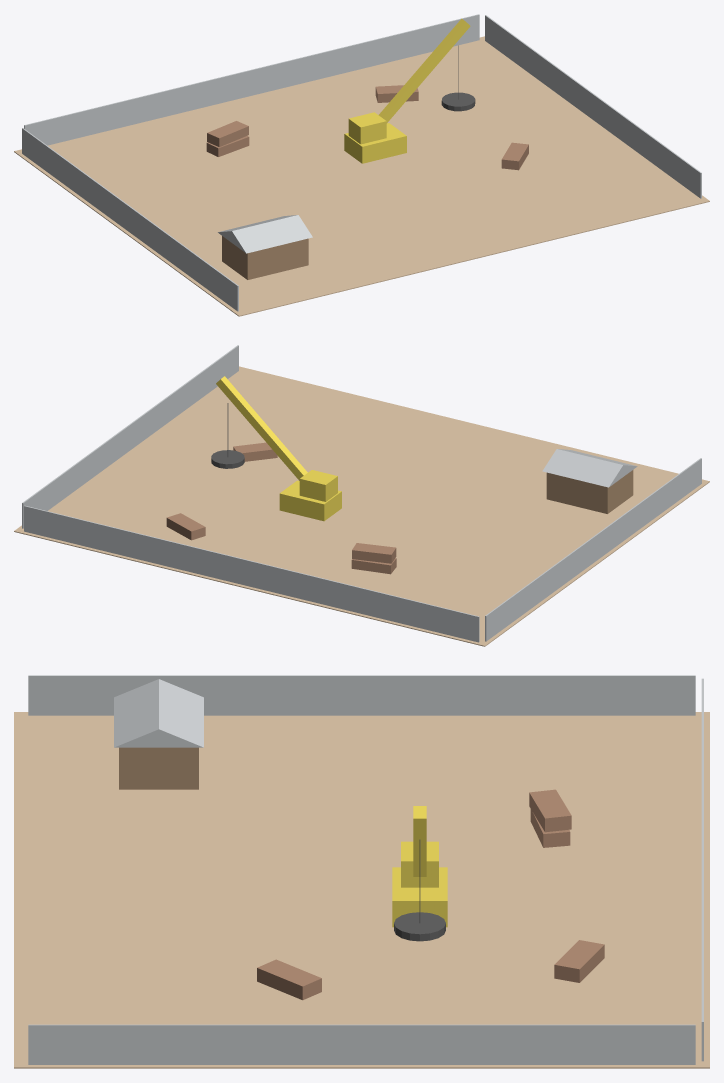
The model's file is old_joe_junkyard.glb.
3 renders of one model, top to bottom at view 1: azimuth 30°, elevation 25°; view 2: azimuth 150°, elevation 25°; view 3: azimuth 270°, elevation 25°, orthographic. The views are drawn at different scales.
Visible parts, largest first — view 1: Old_Joe_Junkyard_lot, Old_Joe_Junkyard_fence_b, Old_Joe_Junkyard_fence_l, Old_Joe_Junkyard_fence_r, Old_Joe_Junkyard_shack, Old_Joe_Junkyard_shack_roof, Old_Joe_Junkyard_boom, Old_Joe_Junkyard_crane_base, Old_Joe_Junkyard_crane_cab, Old_Joe_Junkyard_car_pile_-9_13_1.8, Old_Joe_Junkyard_car_pile_16_-5_0.6, Old_Joe_Junkyard_electromagnet; view 2: Old_Joe_Junkyard_lot, Old_Joe_Junkyard_fence_b, Old_Joe_Junkyard_fence_l, Old_Joe_Junkyard_fence_r, Old_Joe_Junkyard_shack, Old_Joe_Junkyard_shack_roof, Old_Joe_Junkyard_boom, Old_Joe_Junkyard_crane_base, Old_Joe_Junkyard_crane_cab, Old_Joe_Junkyard_car_pile_-9_13_1.8, Old_Joe_Junkyard_car_pile_13_15_0.6, Old_Joe_Junkyard_car_pile_16_-5_0.6 (+2 smaller); view 3: Old_Joe_Junkyard_lot, Old_Joe_Junkyard_fence_r, Old_Joe_Junkyard_fence_l, Old_Joe_Junkyard_shack_roof, Old_Joe_Junkyard_shack, Old_Joe_Junkyard_crane_base, Old_Joe_Junkyard_car_pile_16_-5_0.6, Old_Joe_Junkyard_car_pile_13_15_0.6, Old_Joe_Junkyard_car_pile_-9_13_1.8, Old_Joe_Junkyard_crane_cab, Old_Joe_Junkyard_electromagnet, Old_Joe_Junkyard_fence_b (+2 smaller).
Boxes of the visible parts, x1=… form: Old_Joe_Junkyard_lot: x1=14, y1=36, x2=709, y2=316; Old_Joe_Junkyard_fence_b: x1=24, y1=14, x2=479, y2=145; Old_Joe_Junkyard_fence_l: x1=22, y1=128, x2=238, y2=311; Old_Joe_Junkyard_fence_r: x1=485, y1=15, x2=701, y2=198; Old_Joe_Junkyard_shack: x1=222, y1=236, x2=308, y2=279; Old_Joe_Junkyard_shack_roof: x1=218, y1=215, x2=312, y2=253; Old_Joe_Junkyard_boom: x1=378, y1=18, x2=470, y2=123; Old_Joe_Junkyard_crane_base: x1=344, y1=123, x2=406, y2=163; Old_Joe_Junkyard_crane_cab: x1=348, y1=112, x2=386, y2=144; Old_Joe_Junkyard_car_pile_-9_13_1.8: x1=207, y1=121, x2=248, y2=146; Old_Joe_Junkyard_car_pile_16_-5_0.6: x1=501, y1=142, x2=528, y2=170; Old_Joe_Junkyard_electromagnet: x1=441, y1=92, x2=475, y2=111; Old_Joe_Junkyard_lot: x1=14, y1=366, x2=709, y2=646; Old_Joe_Junkyard_fence_b: x1=24, y1=505, x2=479, y2=642; Old_Joe_Junkyard_fence_l: x1=485, y1=458, x2=701, y2=641; Old_Joe_Junkyard_fence_r: x1=22, y1=345, x2=238, y2=528; Old_Joe_Junkyard_shack: x1=546, y1=470, x2=633, y2=513; Old_Joe_Junkyard_shack_roof: x1=542, y1=449, x2=637, y2=487; Old_Joe_Junkyard_boom: x1=216, y1=376, x2=307, y2=480; Old_Joe_Junkyard_crane_base: x1=279, y1=480, x2=341, y2=521; Old_Joe_Junkyard_crane_cab: x1=299, y1=470, x2=337, y2=501; Old_Joe_Junkyard_car_pile_-9_13_1.8: x1=352, y1=543, x2=396, y2=563; Old_Joe_Junkyard_car_pile_13_15_0.6: x1=166, y1=513, x2=205, y2=540; Old_Joe_Junkyard_car_pile_16_-5_0.6: x1=233, y1=442, x2=277, y2=461; Old_Joe_Junkyard_lot: x1=14, y1=712, x2=709, y2=1068; Old_Joe_Junkyard_fence_r: x1=28, y1=1024, x2=695, y2=1064; Old_Joe_Junkyard_fence_l: x1=28, y1=675, x2=695, y2=715; Old_Joe_Junkyard_shack_roof: x1=114, y1=679, x2=203, y2=747; Old_Joe_Junkyard_shack: x1=119, y1=747, x2=198, y2=789; Old_Joe_Junkyard_crane_base: x1=392, y1=867, x2=447, y2=927; Old_Joe_Junkyard_car_pile_16_-5_0.6: x1=257, y1=959, x2=321, y2=1000; Old_Joe_Junkyard_car_pile_13_15_0.6: x1=554, y1=940, x2=604, y2=982; Old_Joe_Junkyard_car_pile_-9_13_1.8: x1=529, y1=789, x2=571, y2=832; Old_Joe_Junkyard_crane_cab: x1=401, y1=841, x2=438, y2=887; Old_Joe_Junkyard_electromagnet: x1=394, y1=912, x2=445, y2=941; Old_Joe_Junkyard_fence_b: x1=701, y1=678, x2=703, y2=1061.
Size of what is drawn, in the model's own units: 58 by 13.38 by 48.
